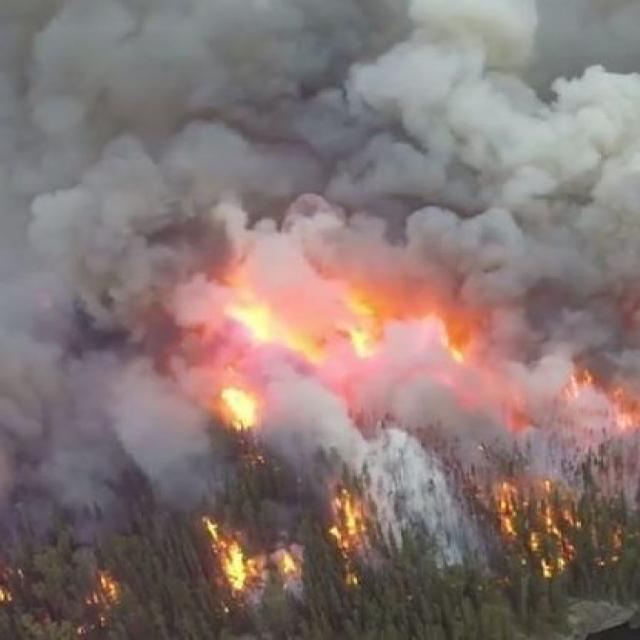Fire: (476, 481, 590, 579), (329, 288, 397, 371), (318, 497, 374, 588), (221, 288, 298, 353), (208, 376, 266, 434), (204, 530, 246, 594), (595, 386, 640, 438), (425, 332, 477, 369), (550, 361, 604, 396)
Smoke: (8, 0, 624, 483)
